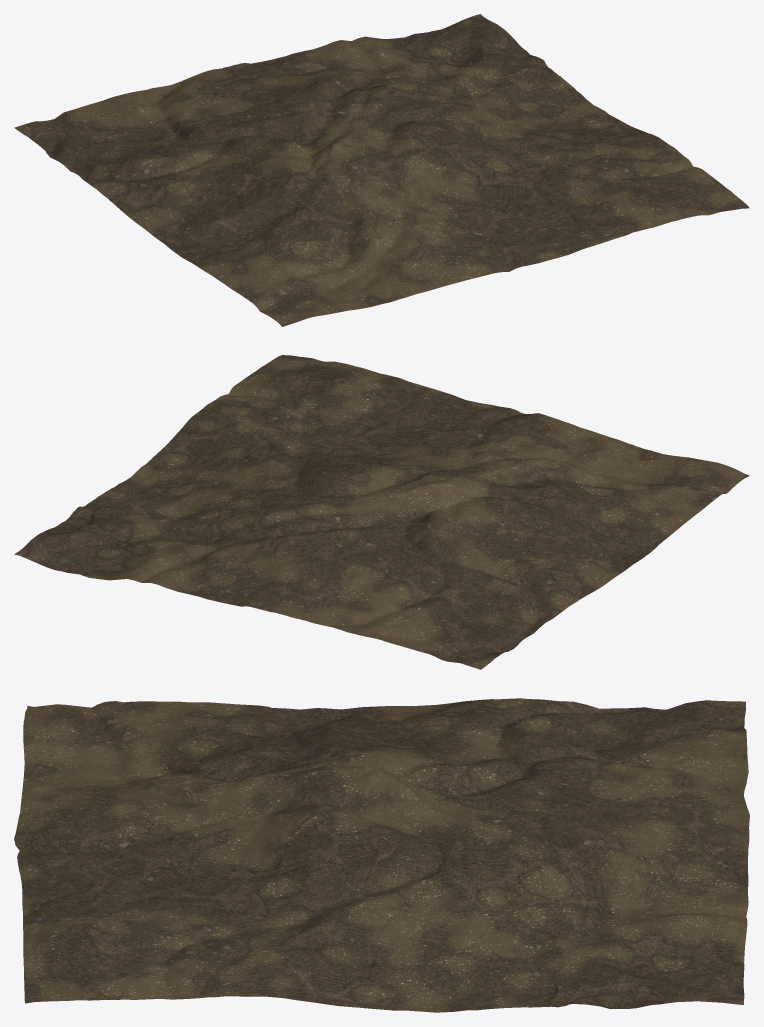
File: SM_Sewer_Mud_01b.fbx
3 renders of one model, top to bottom at view 1: azimuth 30°, elevation 25°; view 2: azimuth 150°, elevation 25°; view 3: azimuth 270°, elevation 25°, orthographic. The views are drawn at different scales.
Parts seen in each view (by area): view 1: SM_Sewer_Mud_01b_LOD0; view 2: SM_Sewer_Mud_01b_LOD0; view 3: SM_Sewer_Mud_01b_LOD0.
Boxes of the visible parts, box(x1,y1,x2,y2) form: SM_Sewer_Mud_01b_LOD0: box(14, 14, 749, 326); SM_Sewer_Mud_01b_LOD0: box(14, 355, 749, 669); SM_Sewer_Mud_01b_LOD0: box(14, 698, 749, 1012).
Size of the model in its own units: 202 by 204 by 19.3.
